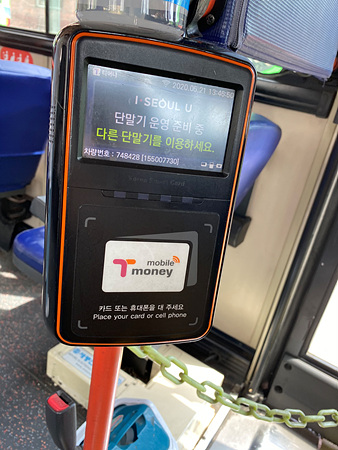terminal: (59, 31, 224, 337)
